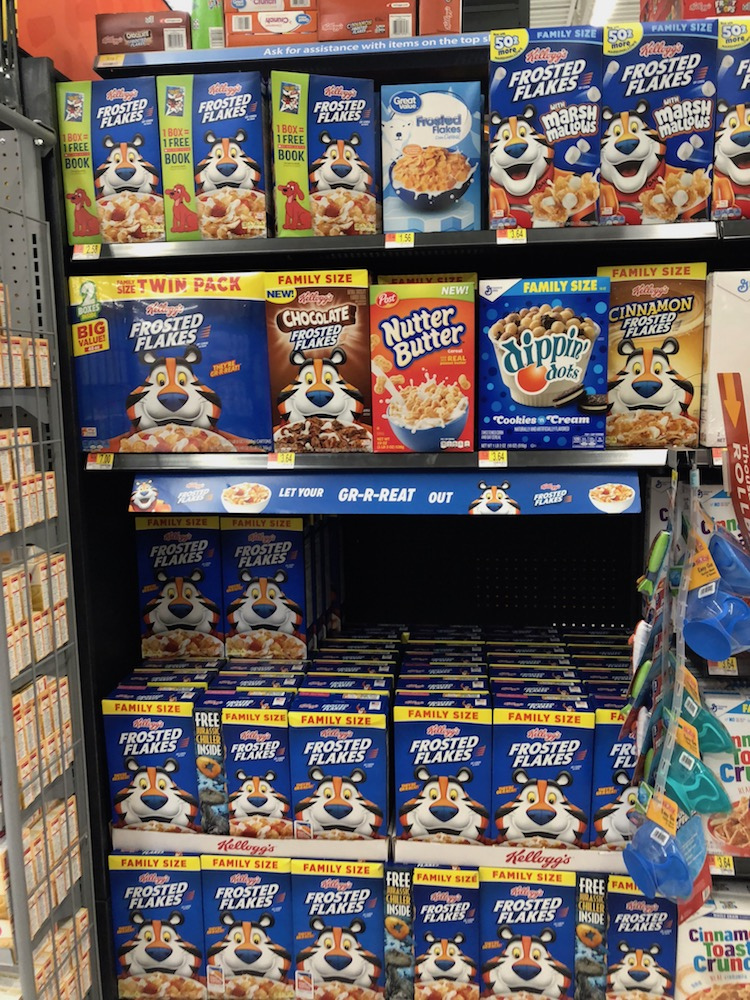Dippin Dots Cookies & Cream -568929378: (474, 285, 609, 444)
Nutter Butter-565717511: (367, 285, 476, 449)
